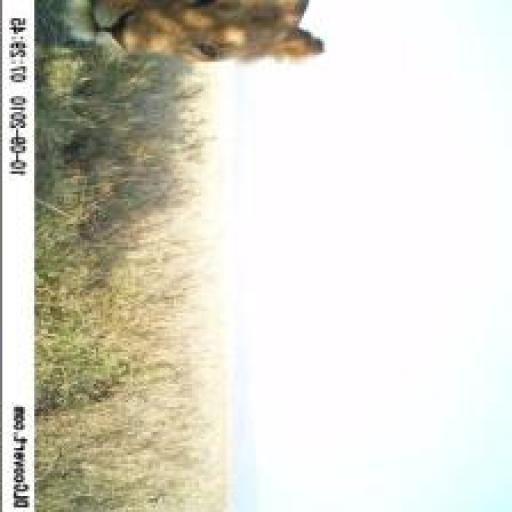lion: (37, 0, 369, 81)
